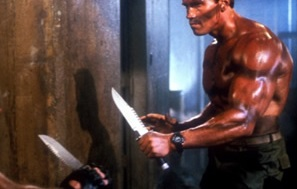knife: (109, 83, 168, 157), (35, 128, 95, 180)
